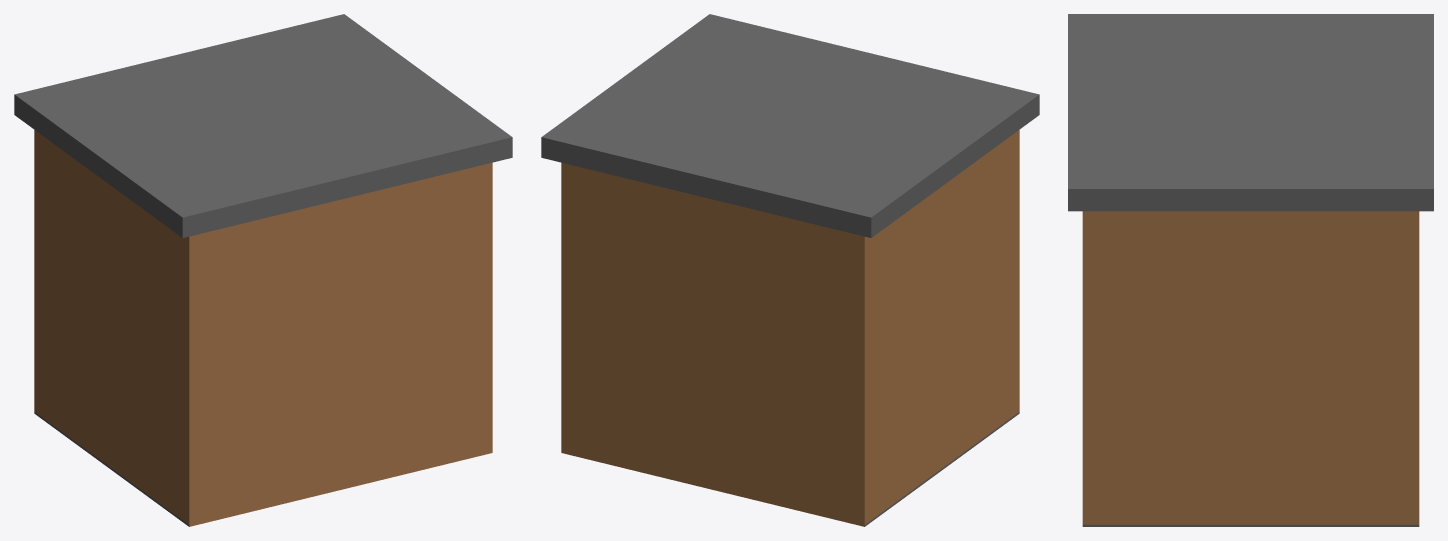
Rendered from counter.fbx.
The picture shows the model from 3 angles, left to right: view 1: azimuth 30°, elevation 25°; view 2: azimuth 150°, elevation 25°; view 3: azimuth 270°, elevation 25°; orthographic projection. The views are drawn at different scales.
Parts seen in each view (by area): view 1: Counter; view 2: Counter; view 3: Counter.
Part boxes in pixels (box(x1,y1,x2,y2)): Counter: box(14, 14, 512, 526); Counter: box(541, 14, 1039, 526); Counter: box(1068, 14, 1433, 526).
Bounding box in the file's own units: 281 × 259 × 249.
